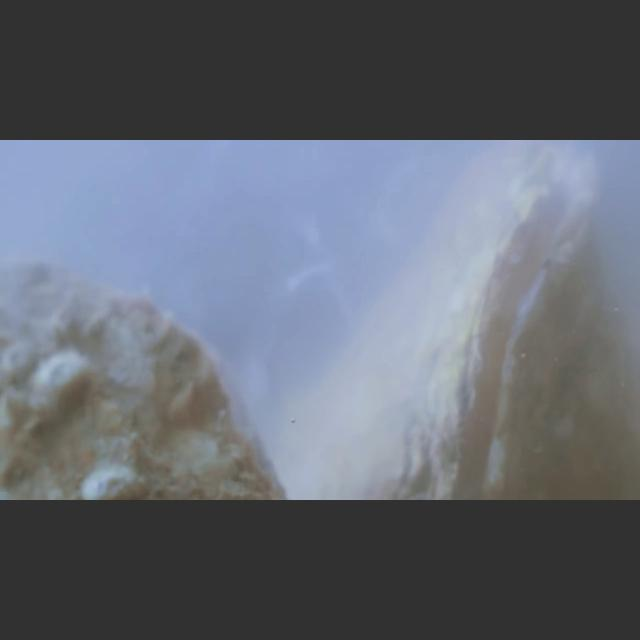Oyster-Closed: (0, 253, 296, 500)
Oyster-Open: (374, 147, 634, 500)
